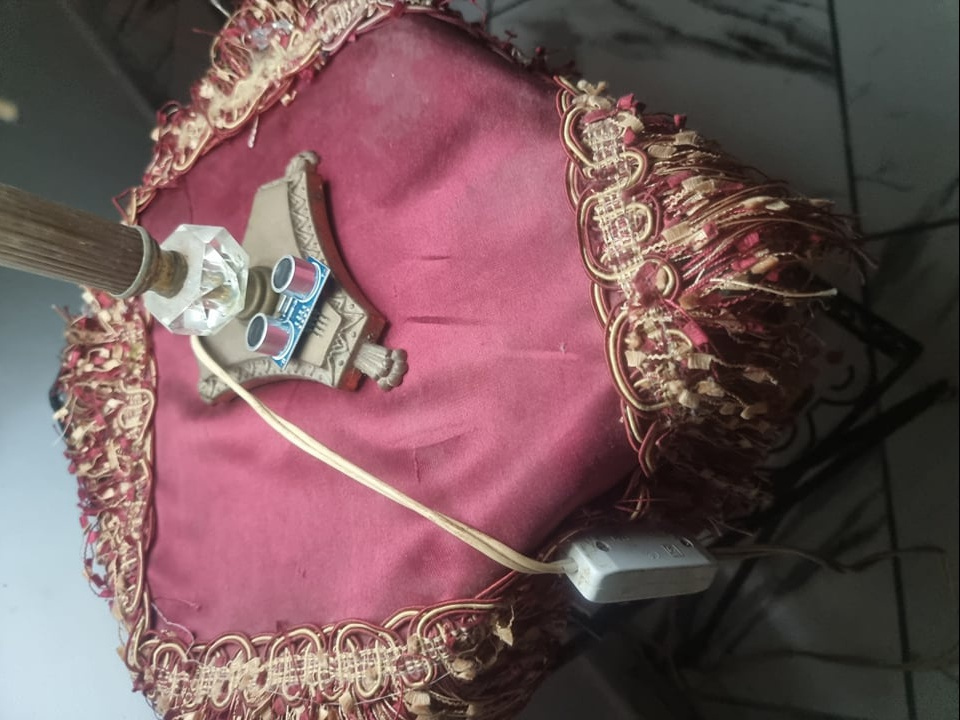SENSOR: (245, 243, 335, 371)
